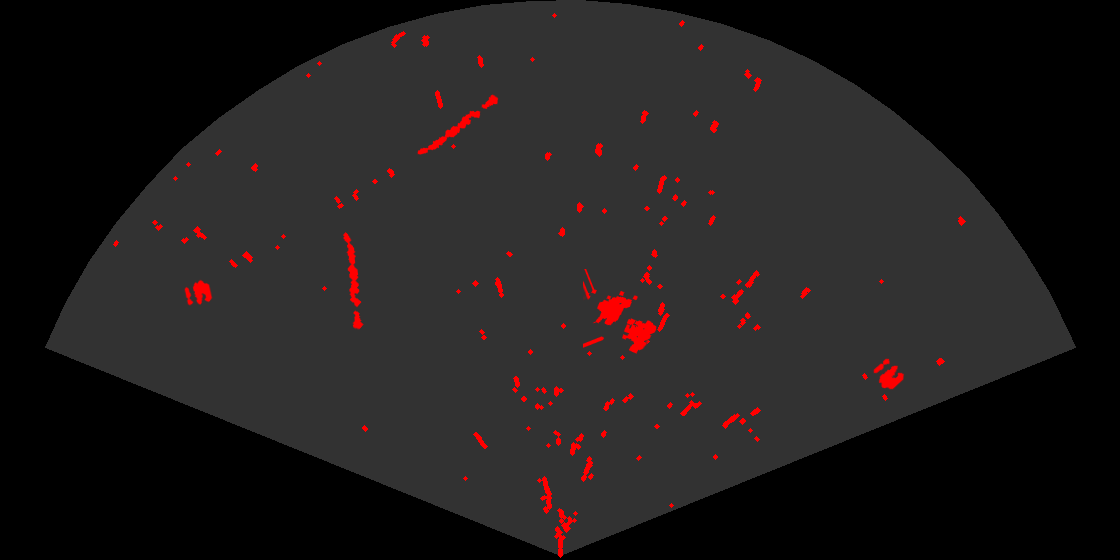ball: (872, 357, 906, 391), (183, 278, 214, 307)
cage: (583, 269, 658, 355)
chain: (416, 93, 500, 156), (342, 231, 365, 330)
